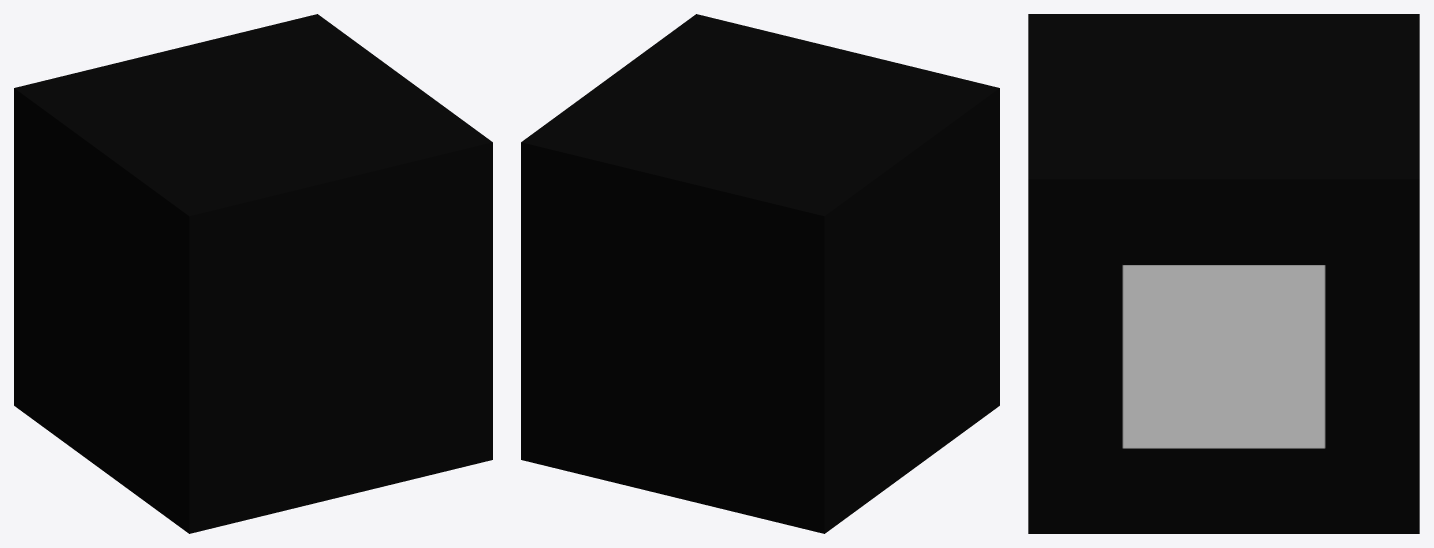
The model's file is head.obj.
The picture shows the model from 3 angles, left to right: view 1: azimuth 30°, elevation 25°; view 2: azimuth 150°, elevation 25°; view 3: azimuth 270°, elevation 25°; orthographic projection. The views are drawn at different scales.
Parts seen in each view (by area): view 1: head_Cube.001; view 2: head_Cube.001; view 3: head_Cube.001.
Boxes of the visible parts, <box> form: head_Cube.001: <box>14,14,492,533</box>; head_Cube.001: <box>521,14,999,533</box>; head_Cube.001: <box>1028,14,1419,533</box>.
Size of the model in its own units: 2 by 2 by 2.
